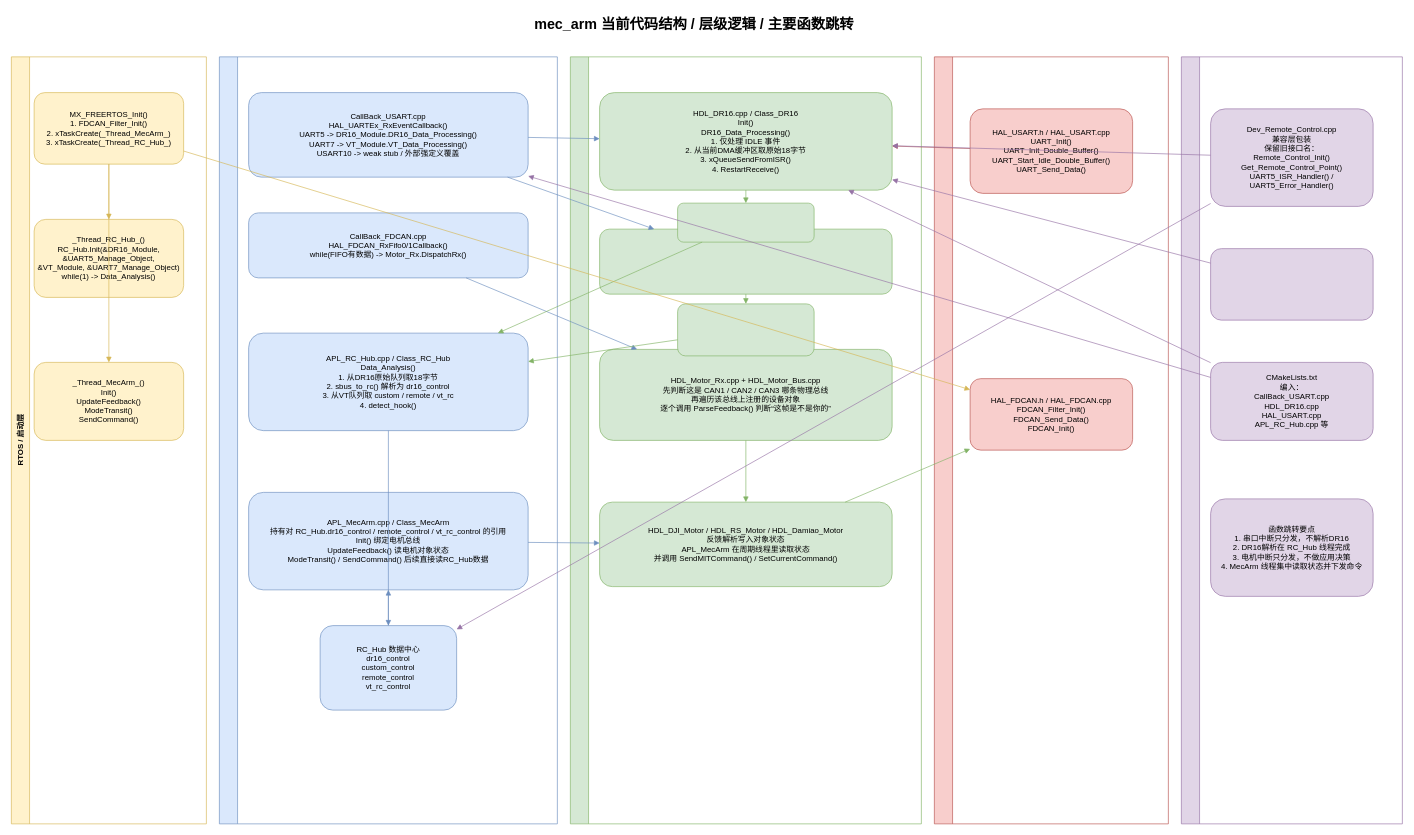
This 1414x835 diagram has some shape labels left out. Here are the shapes that lost their labels. From the top down, the box of each, then its label:
(677, 202, 814, 242): DR16 原始帧队列 Queue item = 18 bytes
(599, 228, 892, 294): HDL_VT.cpp / Class_Video_Transmission VT_Data_Processing() 中断中只拆帧并把原始载荷写入多个队列
(1210, 248, 1373, 320): STM32H723XG_FLASH.ld 新增 .RAM_D1 段 DR16 双DMA缓冲区放在 RAM_D1 避免落入默认 DTCM
(677, 303, 814, 356): VT 多路队列 xcustom_queue xremote_queue xrc_vt_queue
(219, 56, 557, 824): 0-APL Application Layer
(570, 56, 921, 824): 2-HDL Hardware Driver Layer
(934, 56, 1168, 824): 3-HAL Hardware Abstract Layer
(1181, 56, 1402, 824): 兼容层 / 辅助说明
